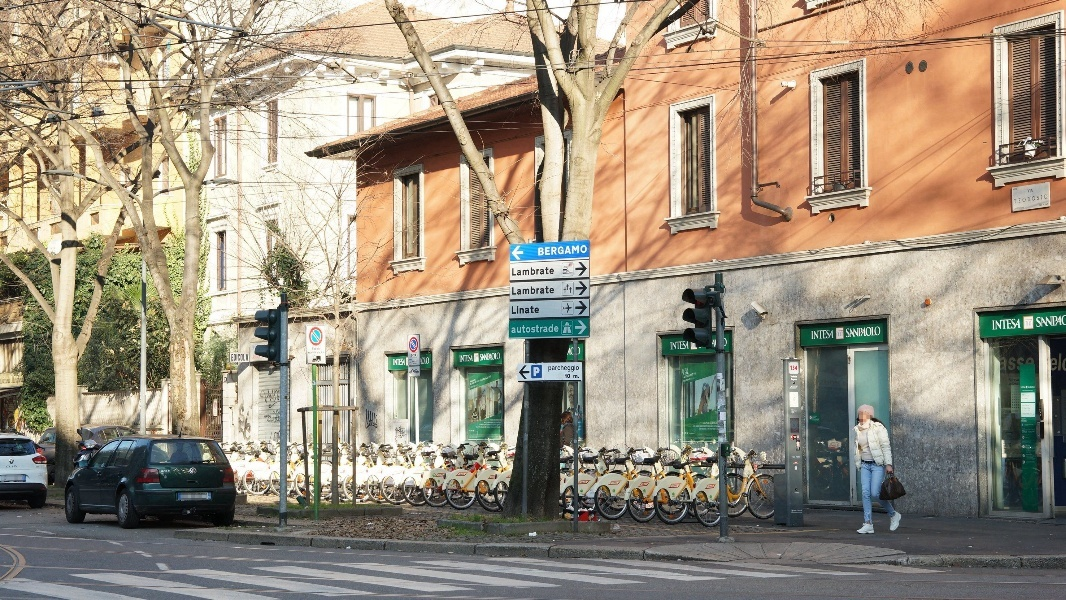text: (722, 460, 736, 486), (259, 388, 272, 408), (369, 409, 379, 430), (1009, 358, 1024, 372), (274, 430, 288, 444), (865, 326, 881, 338), (849, 326, 864, 338), (1041, 316, 1056, 328), (545, 245, 560, 256), (561, 245, 576, 256), (993, 319, 1008, 330), (273, 388, 281, 408), (513, 286, 528, 296), (529, 286, 544, 296), (481, 352, 496, 362), (817, 330, 832, 340), (1025, 194, 1040, 204), (1009, 319, 1022, 330), (513, 267, 528, 276), (529, 267, 544, 276), (513, 306, 528, 315), (513, 325, 528, 334), (529, 325, 544, 334), (545, 325, 560, 334), (673, 341, 688, 350), (1025, 358, 1034, 372), (577, 245, 588, 256), (481, 375, 492, 386), (1, 376, 16, 384), (273, 408, 281, 423), (578, 347, 592, 355), (1000, 358, 1008, 372), (1057, 354, 1063, 372), (561, 365, 576, 372), (545, 286, 555, 296), (534, 367, 544, 377), (529, 306, 540, 315), (471, 375, 480, 386), (725, 338, 736, 347), (1015, 194, 1024, 204), (1051, 354, 1056, 372), (401, 425, 407, 439), (545, 267, 554, 276), (549, 365, 560, 372), (433, 473, 448, 478), (481, 434, 496, 439), (231, 354, 240, 362), (465, 355, 474, 363), (1057, 316, 1063, 328), (422, 357, 432, 364), (395, 425, 400, 439), (1041, 194, 1048, 204), (17, 376, 25, 384), (241, 354, 249, 362), (1009, 378, 1024, 382), (1025, 446, 1040, 450), (642, 482, 656, 486), (689, 372, 697, 379), (1026, 450, 1040, 454), (1026, 456, 1040, 460), (539, 245, 544, 256), (565, 374, 576, 379), (570, 347, 576, 356), (1027, 189, 1040, 193), (470, 434, 480, 439), (790, 366, 800, 371), (393, 359, 400, 366), (689, 376, 696, 383), (714, 339, 720, 347), (471, 384, 480, 389), (1009, 383, 1024, 386), (709, 485, 720, 489), (1062, 315, 1066, 326), (366, 409, 368, 430), (578, 425, 592, 428), (571, 348, 576, 356), (470, 379, 480, 383), (812, 330, 816, 340), (705, 425, 718, 428), (1015, 207, 1024, 211), (1037, 316, 1040, 328), (401, 359, 406, 366), (683, 372, 688, 379), (683, 376, 688, 383), (613, 482, 624, 485), (725, 452, 736, 455), (1013, 383, 1024, 386), (1025, 428, 1036, 431), (1029, 431, 1040, 434), (264, 415, 272, 419), (460, 355, 464, 363), (1041, 203, 1049, 207), (6, 465, 16, 468), (481, 424, 496, 426), (481, 426, 496, 428), (497, 352, 500, 362), (582, 481, 592, 484), (683, 370, 688, 376), (694, 425, 704, 428), (1014, 188, 1024, 191), (1025, 386, 1035, 389), (1025, 413, 1035, 416), (578, 422, 592, 424), (578, 429, 592, 431), (1026, 454, 1040, 456), (1026, 462, 1040, 464), (791, 378, 800, 381), (705, 423, 718, 425), (705, 428, 718, 430), (267, 419, 272, 424), (257, 354, 261, 360), (13, 376, 16, 384), (682, 368, 688, 372), (846, 326, 848, 338), (812, 416, 816, 422), (1012, 410, 1024, 412), (309, 352, 320, 354), (485, 421, 496, 423), (313, 347, 320, 350), (313, 351, 320, 354), (411, 354, 416, 358), (470, 430, 480, 432), (497, 434, 501, 439), (833, 330, 835, 340), (253, 354, 256, 360), (439, 474, 448, 476), (670, 341, 672, 350), (791, 376, 800, 378), (817, 416, 820, 422), (1025, 408, 1031, 411), (252, 345, 256, 349), (497, 419, 505, 421), (792, 456, 800, 458), (673, 485, 678, 488), (1025, 424, 1040, 425), (1025, 437, 1040, 438), (577, 365, 579, 372), (793, 510, 800, 512), (1025, 442, 1032, 444), (321, 351, 325, 354), (460, 473, 464, 476), (474, 430, 480, 432), (577, 375, 580, 379), (833, 442, 839, 444), (1004, 442, 1008, 445), (491, 476, 496, 478), (491, 419, 496, 421), (497, 421, 502, 423), (497, 424, 502, 426), (593, 515, 595, 520), (699, 428, 704, 430), (1003, 445, 1008, 447), (1025, 395, 1030, 397), (689, 341, 690, 350), (791, 512, 800, 513), (1021, 386, 1024, 389), (1025, 390, 1034, 391), (1009, 442, 1012, 445), (412, 361, 416, 363), (476, 426, 480, 428), (497, 426, 501, 428), (574, 375, 576, 379), (689, 370, 690, 376), (1022, 428, 1024, 431), (1009, 445, 1012, 447), (1022, 408, 1024, 411), (1025, 405, 1031, 406), (273, 419, 274, 424), (591, 515, 592, 520), (1025, 407, 1030, 408), (257, 345, 258, 349), (417, 361, 419, 363), (801, 510, 803, 512), (1039, 203, 1040, 207), (1022, 442, 1024, 444), (1022, 395, 1024, 397), (1025, 398, 1029, 399), (1023, 413, 1024, 416), (414, 363, 416, 364), (479, 424, 480, 426), (703, 423, 704, 425), (801, 512, 803, 513), (1022, 398, 1024, 399), (1022, 407, 1024, 408), (417, 363, 418, 364), (1023, 390, 1024, 391), (1023, 405, 1024, 406)
